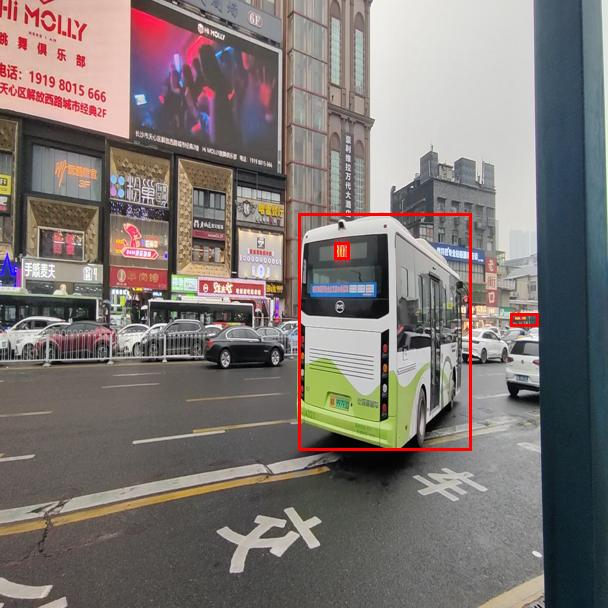bus: (298, 213, 471, 450), (510, 313, 538, 326)
screen: (334, 242, 349, 259)
